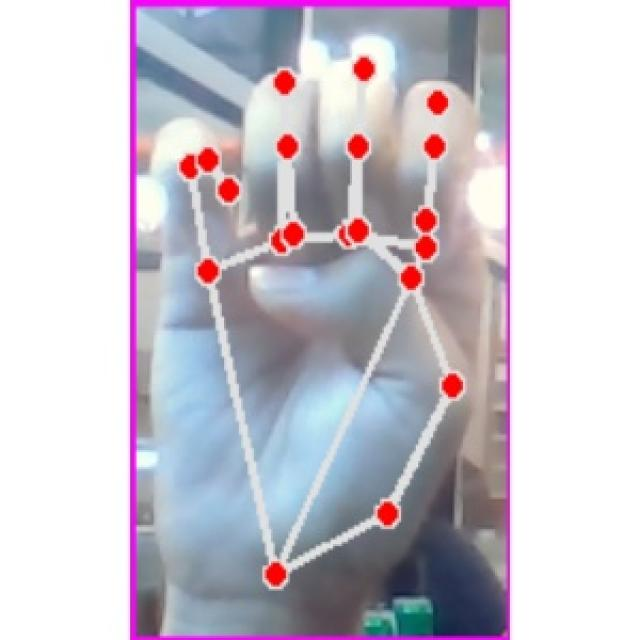E: (155, 44, 479, 604)
